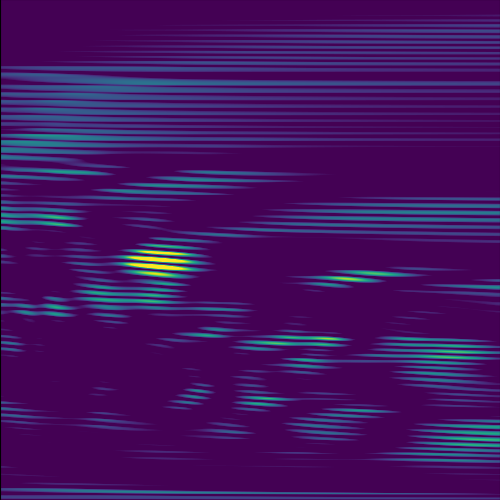semblance: (106, 247, 213, 278)
